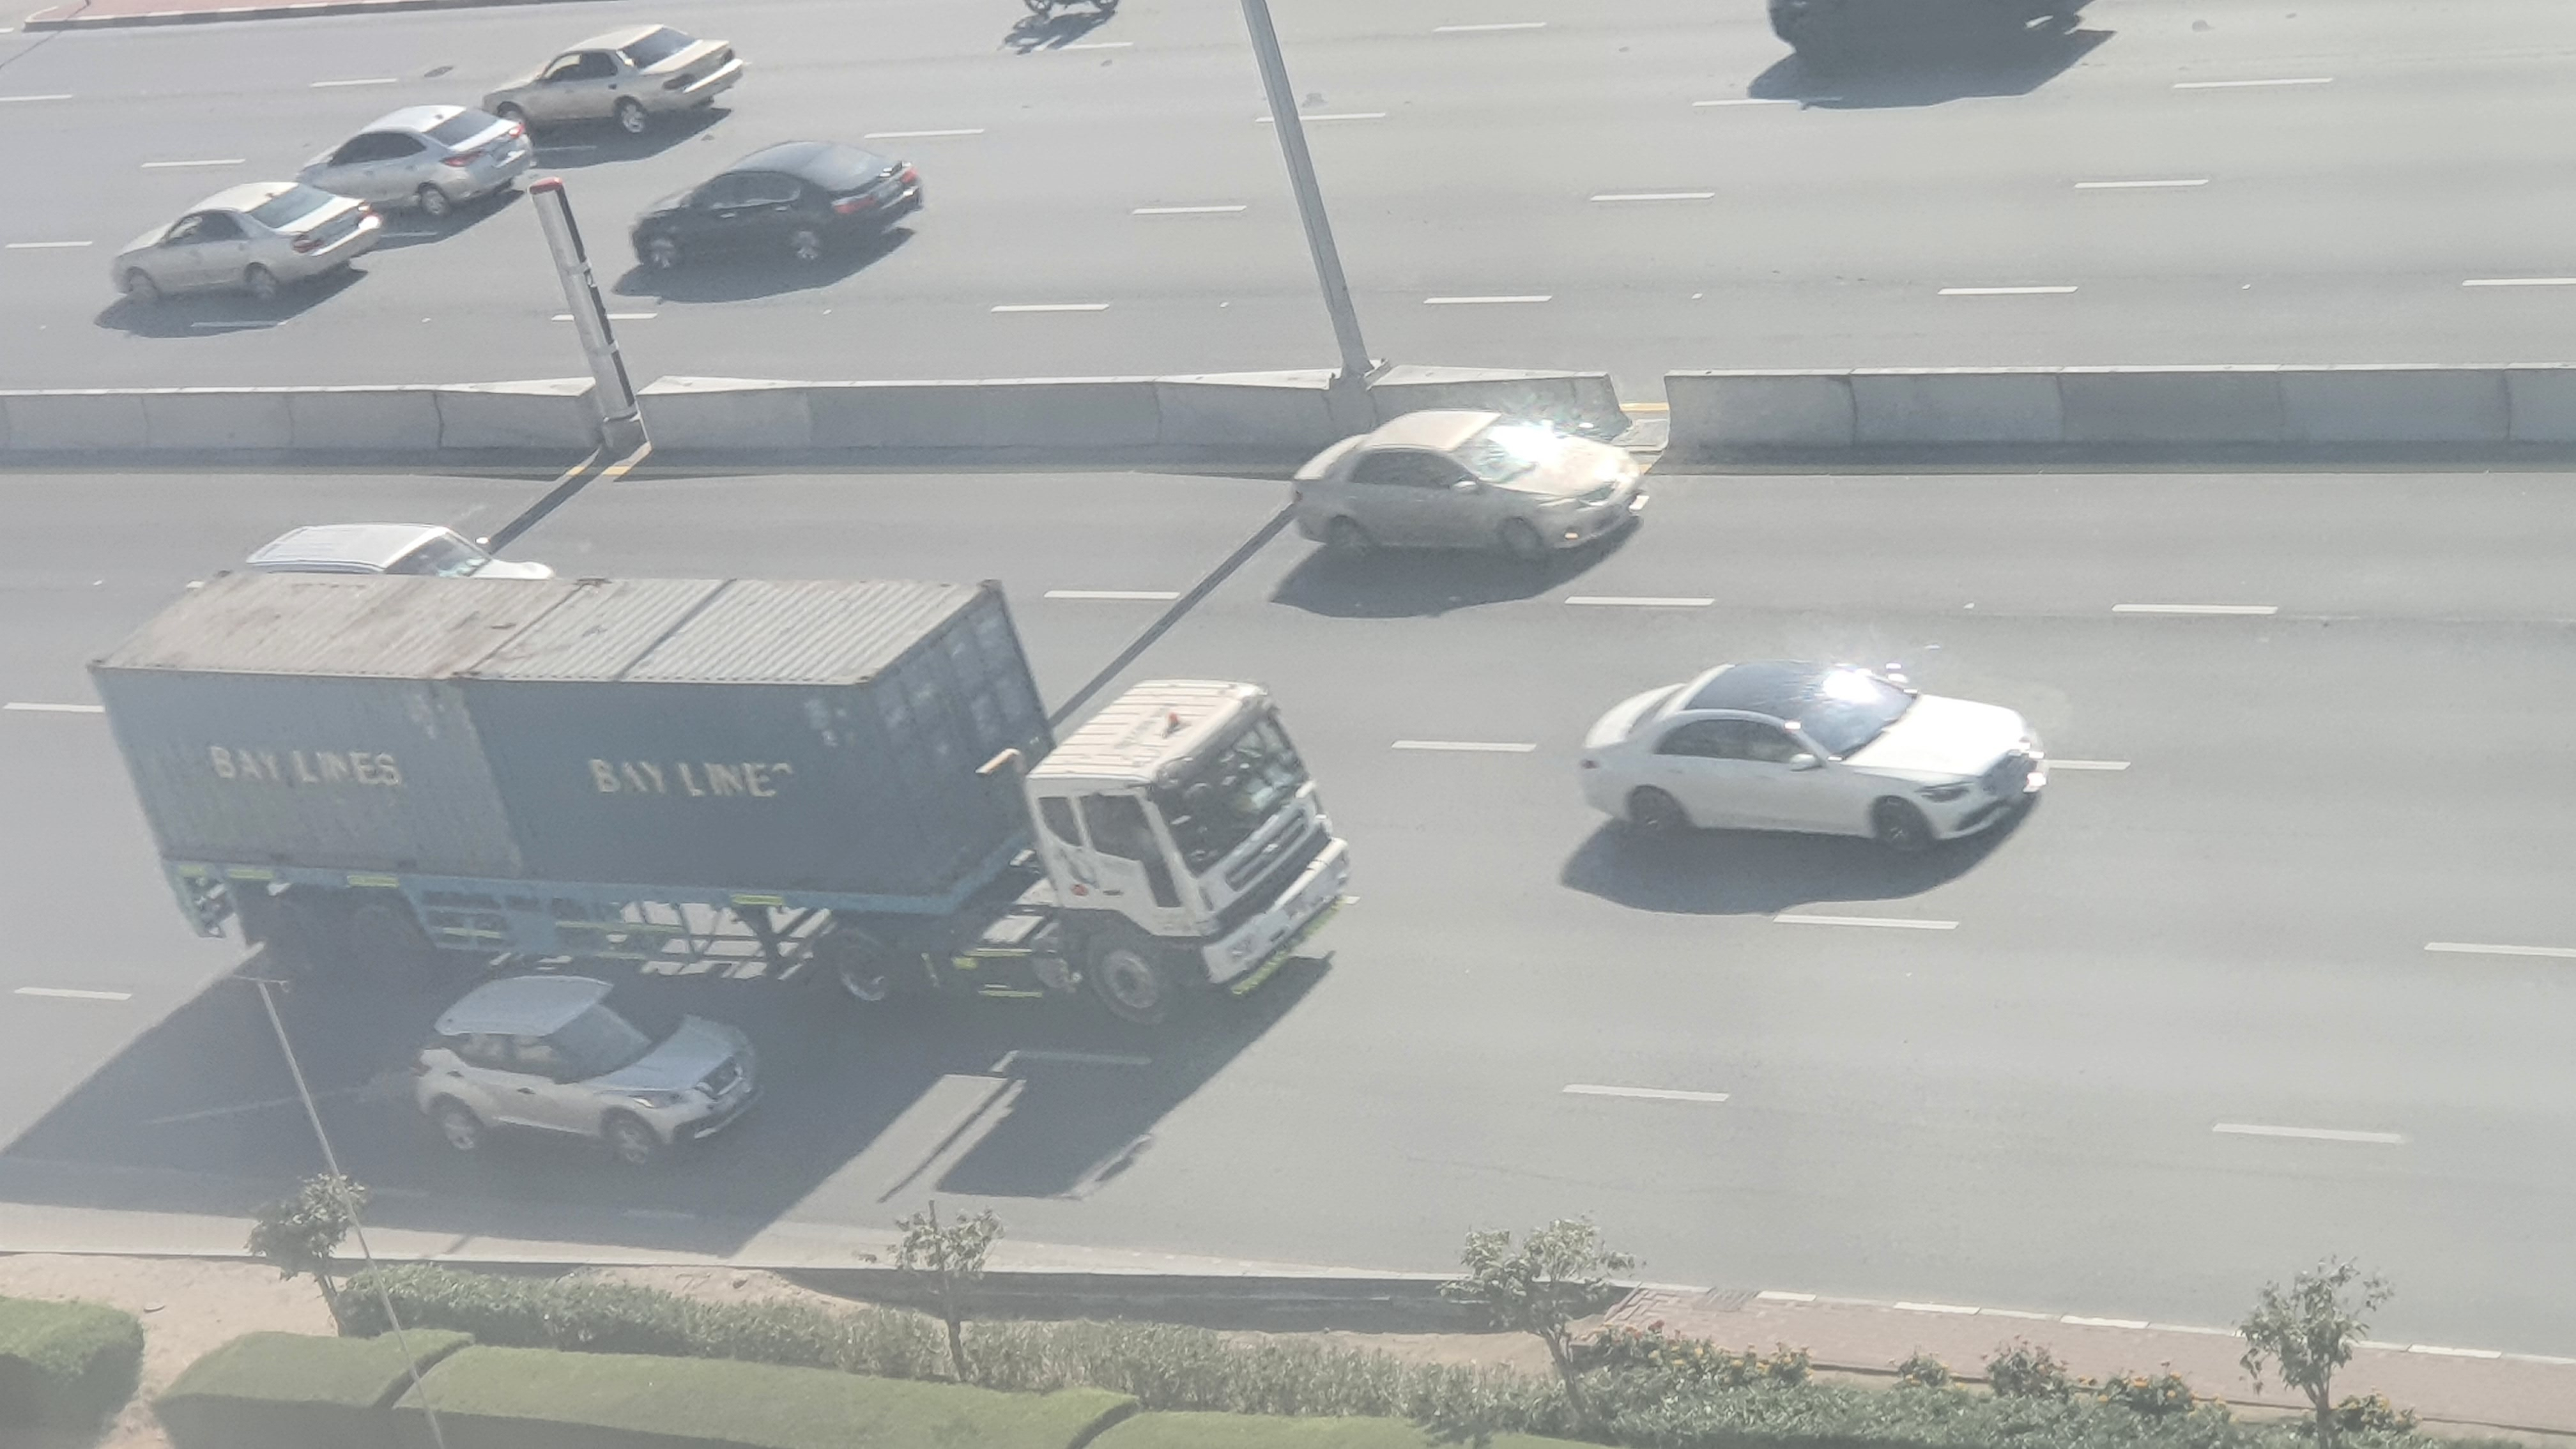NotSunroof: (409, 975, 755, 1161), (1292, 409, 1654, 570), (251, 522, 566, 577)
Sunroof: (1569, 656, 2054, 862)
